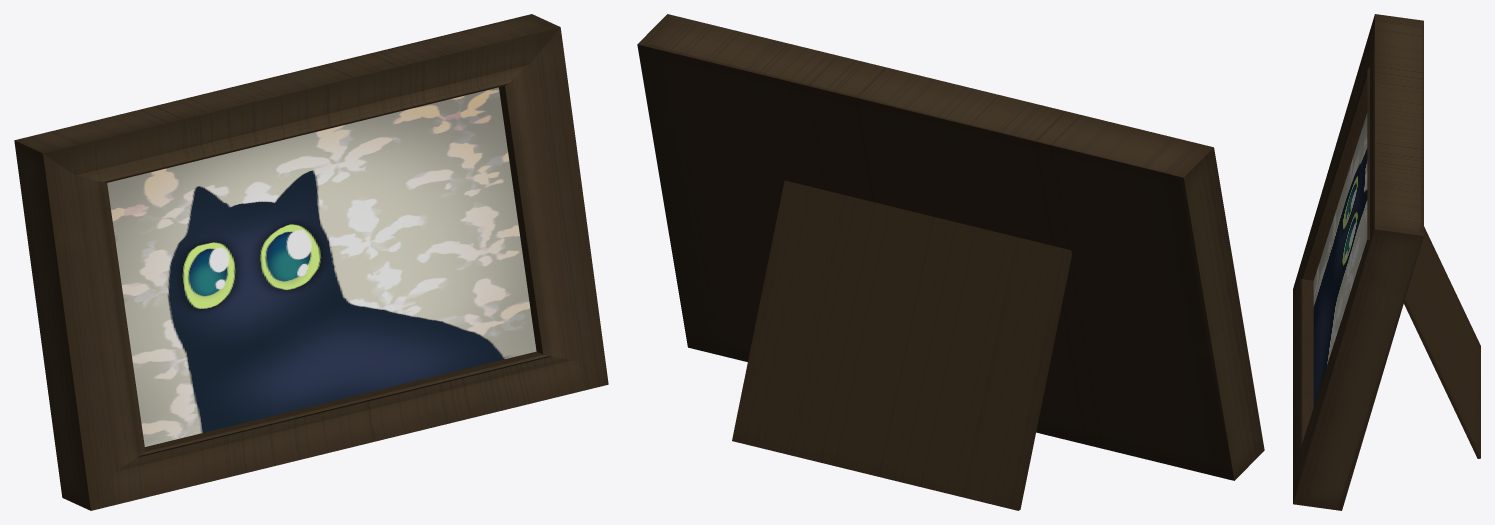
File: cat.glb
The picture shows the model from 3 angles, left to right: view 1: azimuth 30°, elevation 25°; view 2: azimuth 150°, elevation 25°; view 3: azimuth 270°, elevation 25°; orthographic projection. The views are drawn at different scales.
Parts seen in each view (by area): view 1: Plane_0; view 2: Plane_0; view 3: Plane_0.
Part boxes in pixels (box(x1,y1,x2,y2)): Plane_0: box(14, 14, 608, 510); Plane_0: box(637, 14, 1264, 510); Plane_0: box(1293, 14, 1480, 510).
Bounding box in the file's own units: 2.17 × 1.32 × 0.801.
2 materials, 2 textured.
